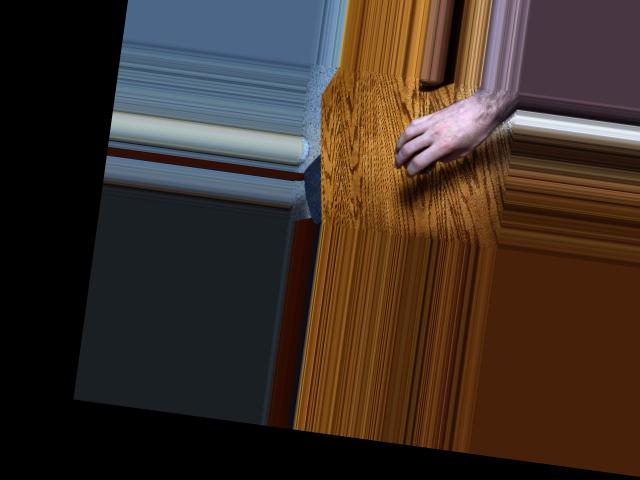onion: (401, 140, 443, 177)
